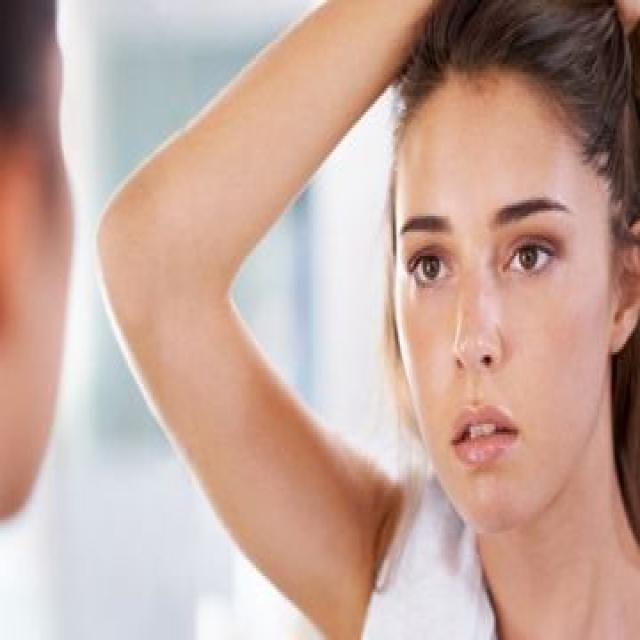oily: (516, 296, 592, 406), (418, 132, 554, 182), (404, 305, 449, 383)
